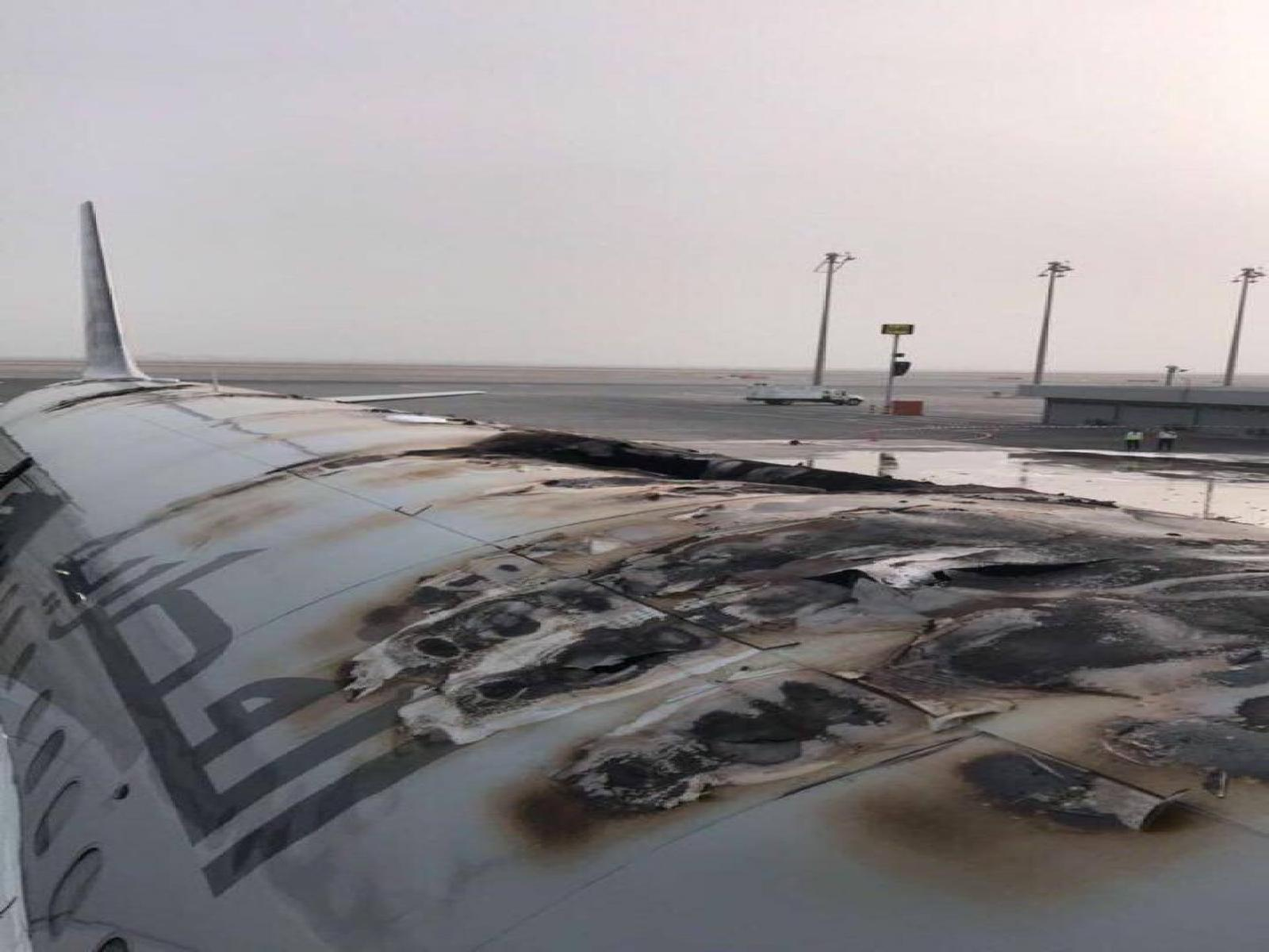Fuselage_damage: (344, 501, 1267, 811), (469, 431, 938, 493), (961, 750, 1169, 830), (41, 382, 190, 412)
